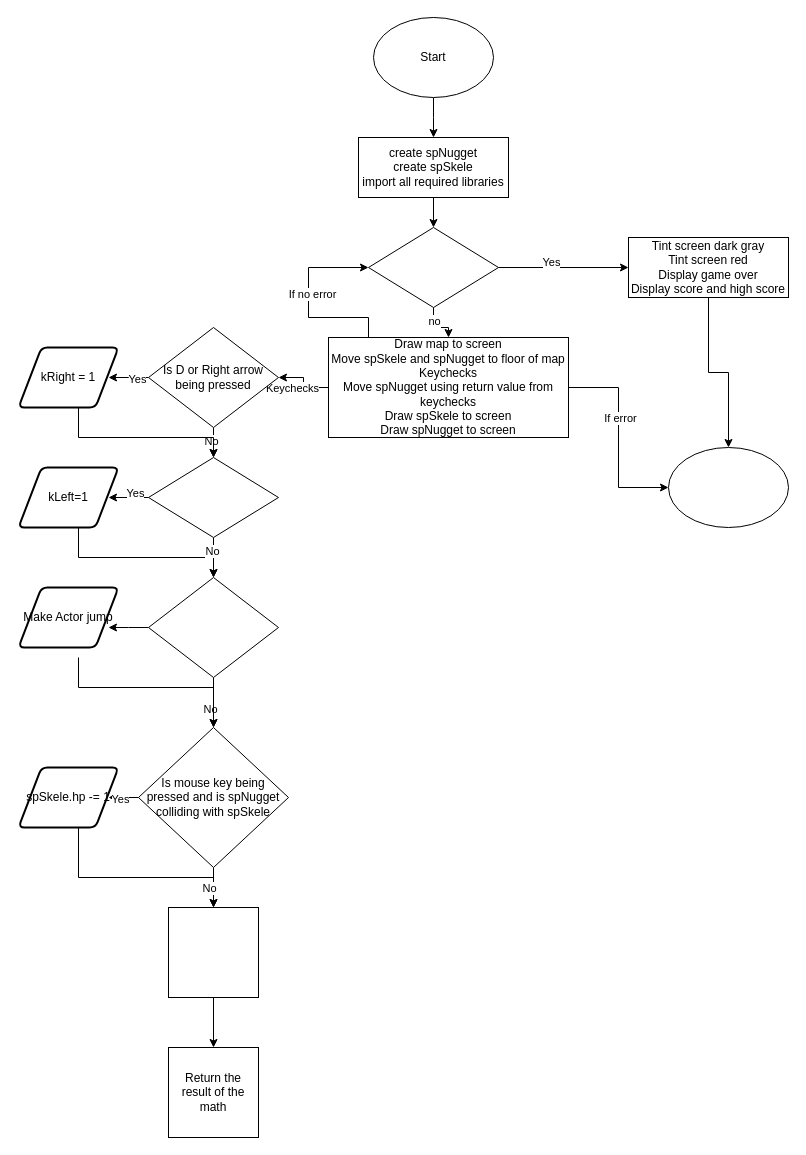
Image size: 806x1155. Some labels were removed from this diagram. Each missing label, with the centre of its shape:
"Do math to calculate movement" goes at [213,952].
"End" goes at [728,487].
"Is A or Left arrow being pressed" goes at [213,497].
"Is character dead?" goes at [433,267].
"Is space key being pressed" goes at [213,627].
